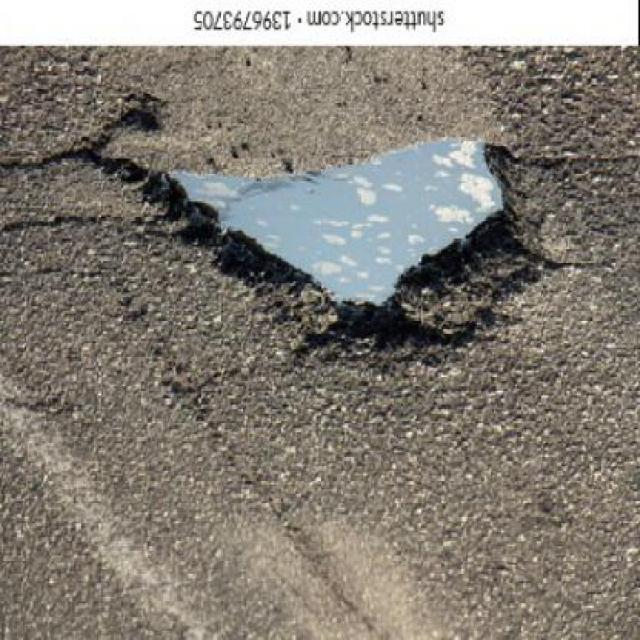pothole: (90, 96, 550, 389)
